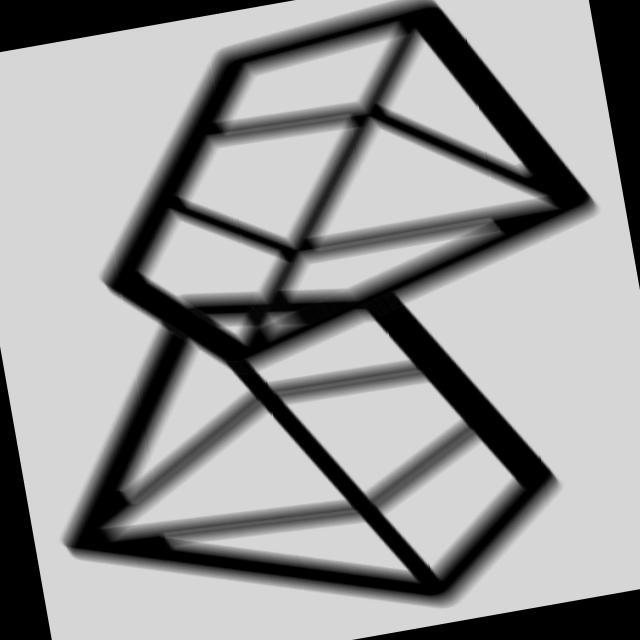diamond: (50, 1, 628, 431), (18, 236, 586, 640)
